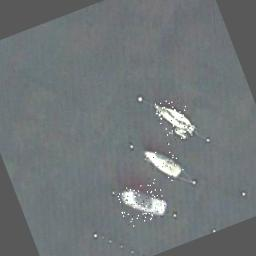boat: (114, 176, 170, 228), (152, 94, 198, 144), (142, 138, 186, 186)
